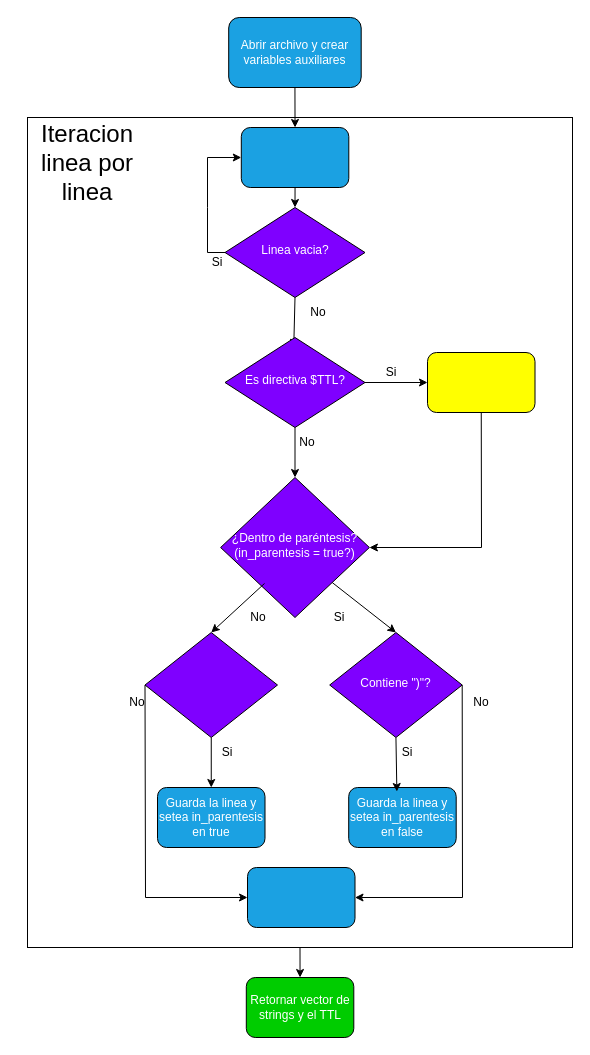
This 590x1055 diagram has some shape labels left out. Each missing label, with the centre of its shape:
Actualizar TTL: (x=480, y=382)
Contiene "("?: (x=211, y=685)
Eliminar comentarios y espacios: (x=294, y=157)
Guarda linea: (x=300, y=897)
